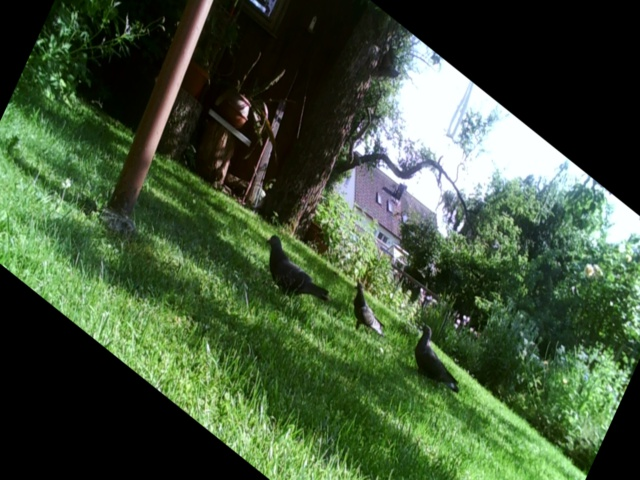Pigeon: (263, 233, 329, 311), (414, 321, 461, 393), (351, 281, 383, 337)
